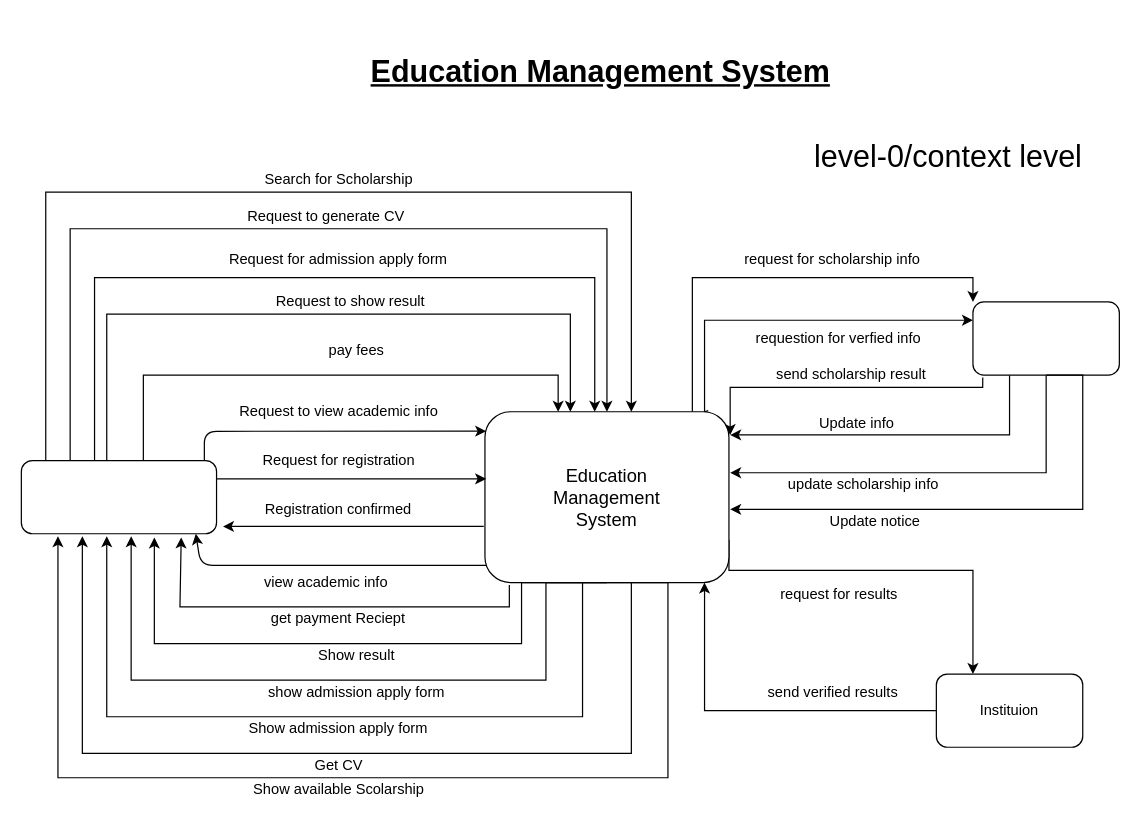
Some shapes in this 1141 by 822 pixel diagram are drawn without their labels. The centre of each missing label's shape, as x and y in pixels:
"Admin" goes at point (1045, 338).
"User" goes at point (118, 496).
